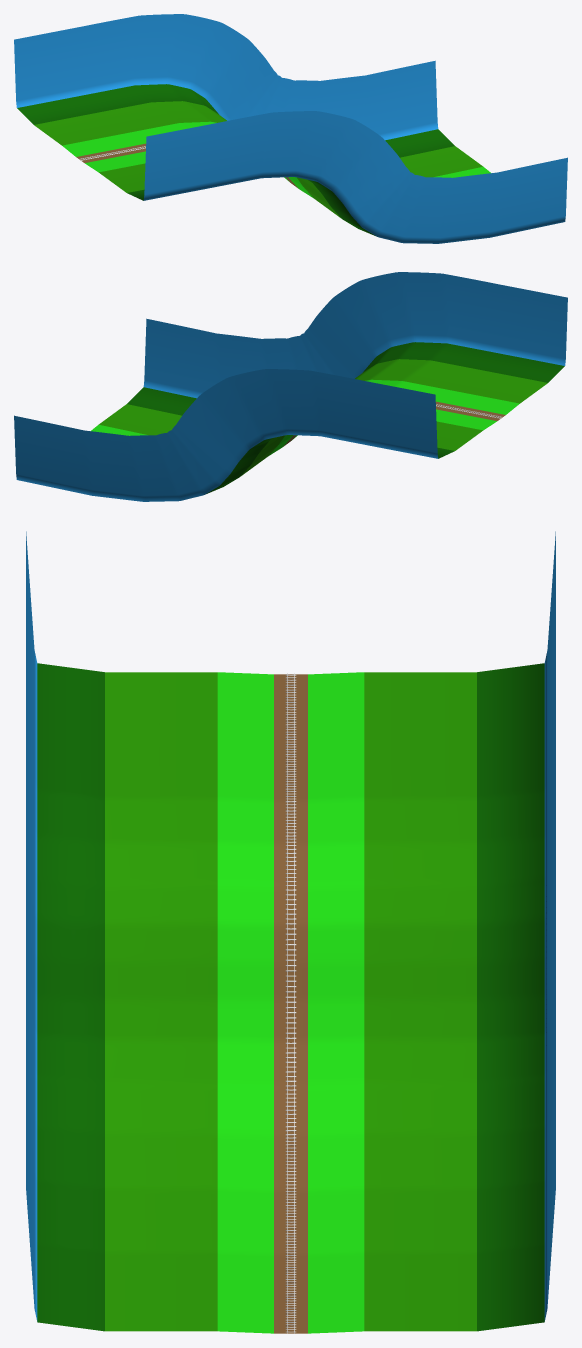
File: down-1.fbx
3 views of the same model, one above another, from view 1: azimuth 30°, elevation 25°; view 2: azimuth 150°, elevation 25°; view 3: azimuth 270°, elevation 25° (orthographic). The views are drawn at different scales.
Visible parts, largest first — view 1: Down-1; view 2: Down-1; view 3: Down-1.
Boxes of the visible parts, x1,y1,x2,y2 form: Down-1: (14,14,567,243); Down-1: (14,272,567,501); Down-1: (26,531,555,1333).
Bounding box in the file's own units: 18374 × 8161 × 10000.
